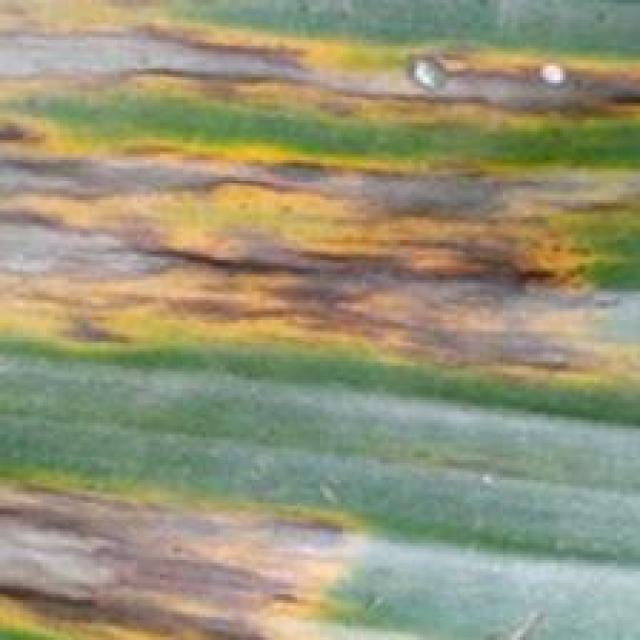Early_leaf_spot: (0, 0, 637, 401), (0, 445, 383, 640)
